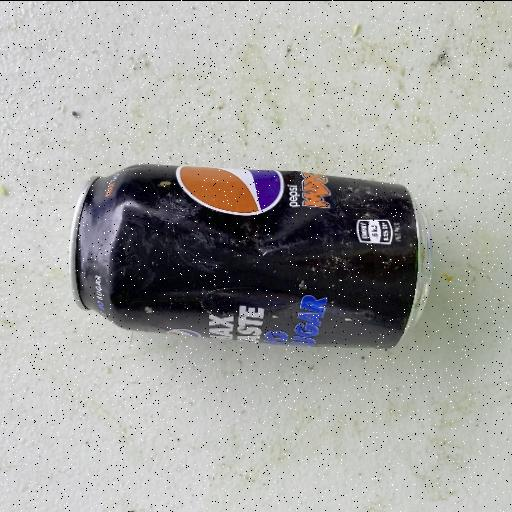Metal: (66, 162, 432, 352)
